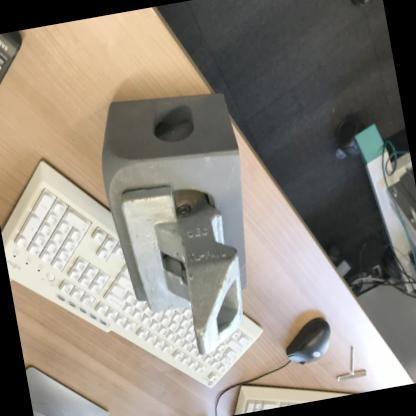CornerCasting: (84, 80, 256, 245)
Twistlock: (114, 171, 259, 370)
